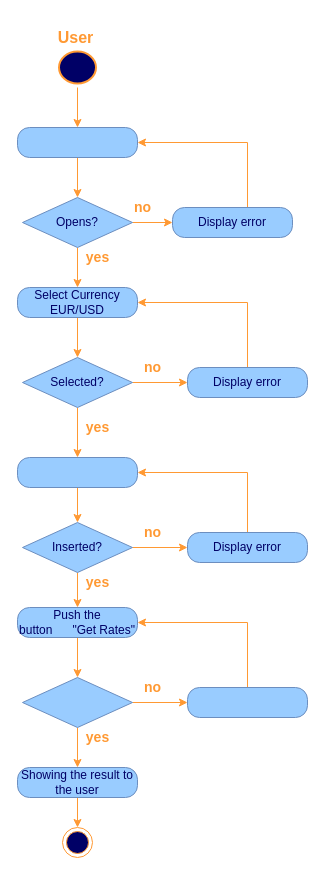
This 325x875 diagram has some shape labels left out. The centre of each missing label's shape, as x and y in pixels:
"Insert amount of BitCoins" goes at [77,472].
"Open BitCoin Calculator" goes at [77,142].
"Pushed?" goes at [77,702].
"Showing no result" goes at [247,702].
